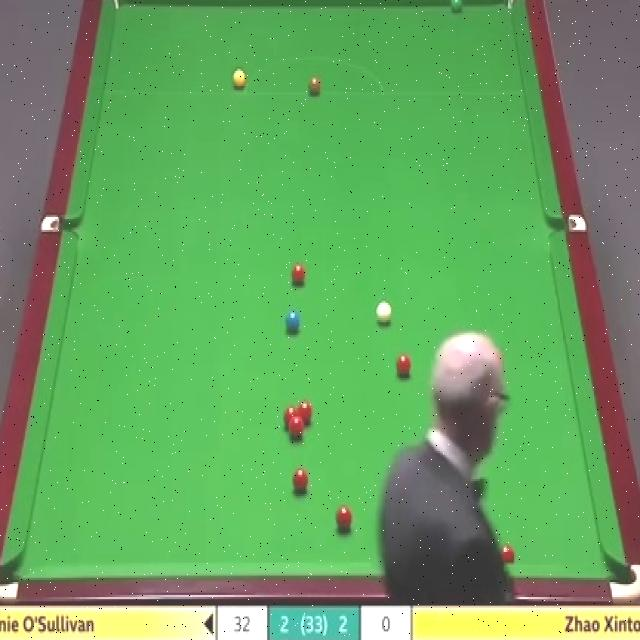blue-ball: (284, 309, 301, 338)
brown-ball: (307, 72, 323, 99)
green-ball: (449, 0, 462, 13)
red-ball: (334, 505, 354, 532), (291, 466, 309, 496), (396, 353, 413, 378), (496, 543, 516, 563), (288, 415, 304, 438), (291, 261, 306, 285), (298, 402, 312, 422), (284, 406, 297, 423)
white-ball: (376, 298, 394, 326)
yellow-ball: (231, 66, 246, 91)
